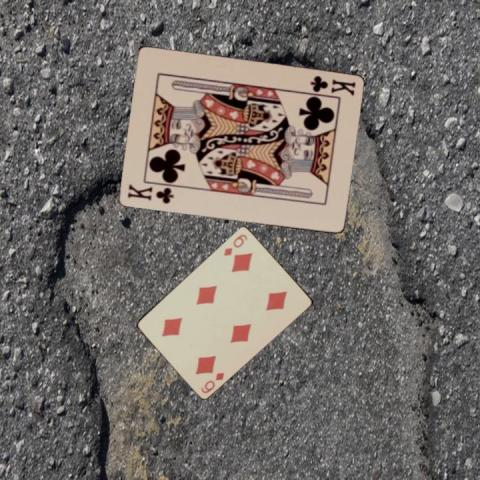6d: (220, 231, 248, 257), (198, 369, 225, 395)
Kc: (306, 73, 357, 97), (124, 182, 175, 205)
